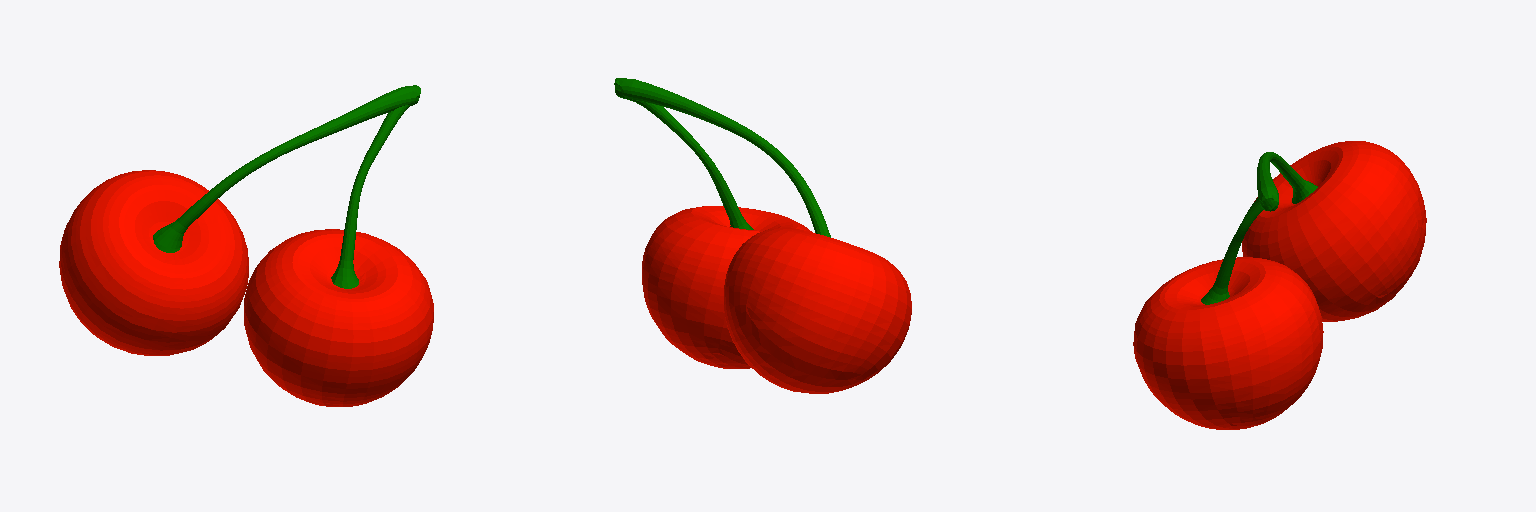
File: cherry.obj
The picture shows the model from 3 angles: view 1: azimuth 30°, elevation 25°; view 2: azimuth 150°, elevation 25°; view 3: azimuth 270°, elevation 25°; orthographic projection.
Parts seen in each view (by area): view 1: twinCherries cherry_2, cherry_1 twinCherries, twinCherries stem; view 2: twinCherries cherry_2, cherry_1 twinCherries, twinCherries stem; view 3: cherry_1 twinCherries, twinCherries cherry_2, twinCherries stem.
Boxes of the visible parts, box(x1,y1,x2,y2) form: twinCherries cherry_2: box(59, 170, 248, 355); cherry_1 twinCherries: box(244, 229, 433, 406); twinCherries stem: box(153, 85, 420, 288); twinCherries cherry_2: box(724, 228, 911, 393); cherry_1 twinCherries: box(642, 206, 812, 368); twinCherries stem: box(614, 78, 830, 237); cherry_1 twinCherries: box(1133, 257, 1323, 429); twinCherries cherry_2: box(1242, 141, 1426, 321); twinCherries stem: box(1201, 152, 1317, 304).
Size of the model in its own units: 2.28 by 1.9 by 1.83.